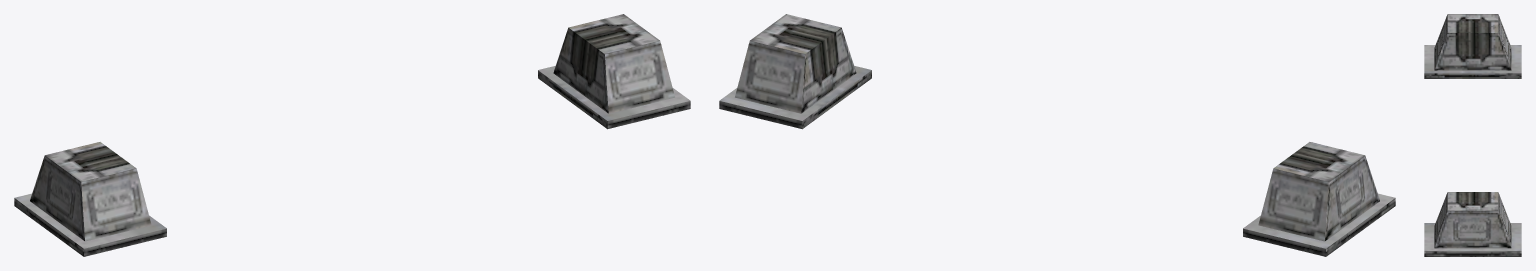
File: lambda_pads_l0.fbx
3 views of the same model, side by side, from view 1: azimuth 30°, elevation 25°; view 2: azimuth 150°, elevation 25°; view 3: azimuth 270°, elevation 25° (orthographic). The views are drawn at different scales.
Visible parts, largest first — view 1: mesh_node; view 2: mesh_node; view 3: mesh_node.
Boxes of the visible parts, x1=… form: mesh_node: x1=14, y1=14, x2=690, y2=256; mesh_node: x1=719, y1=14, x2=1395, y2=256; mesh_node: x1=1424, y1=14, x2=1521, y2=256.
Bounding box in the file's own units: 12.74 × 1.19 × 2.53.
